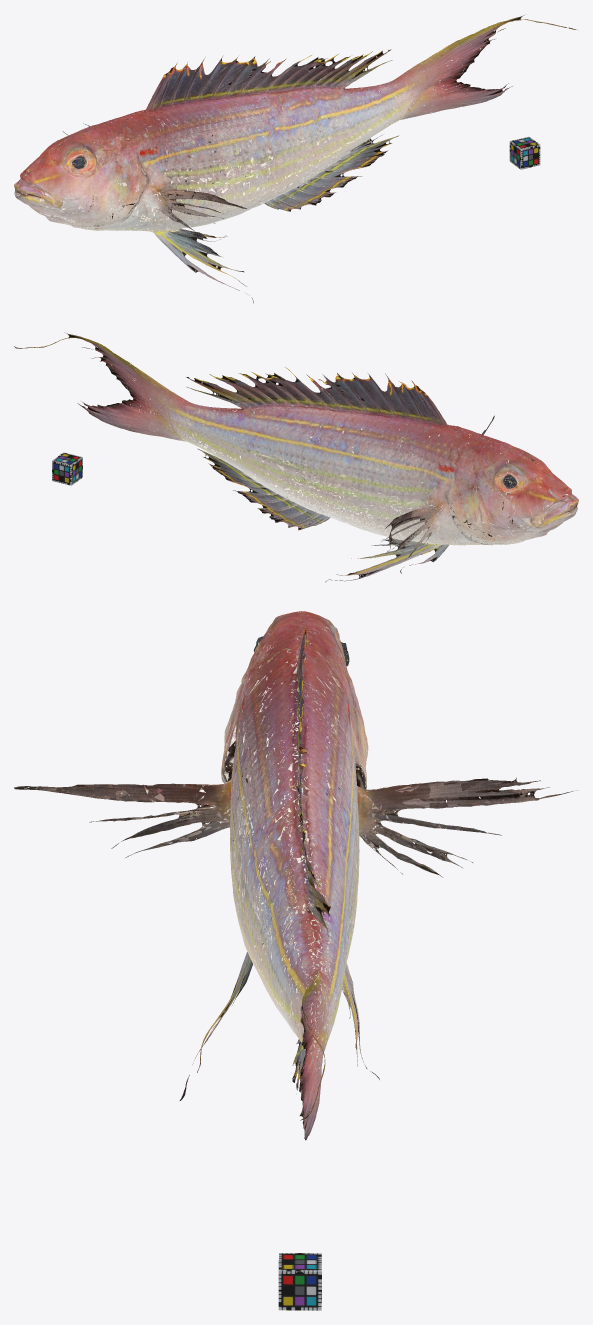
The model's file is scan_threadfin.glb.
3 views of the same model, one above another, from view 1: azimuth 30°, elevation 25°; view 2: azimuth 150°, elevation 25°; view 3: azimuth 270°, elevation 25° (orthographic). The views are drawn at different scales.
Parts seen in each view (by area): view 1: Object_13, Object_6, Object_4; view 2: Object_6, Object_13, Object_4; view 3: Object_6, Object_13, Object_4.
Part boxes in pixels (<box>): Object_13: <box>14,15,578,303</box>; Object_6: <box>14,17,552,302</box>; Object_4: <box>509,136,540,169</box>; Object_6: <box>19,333,577,581</box>; Object_13: <box>14,332,578,581</box>; Object_4: <box>52,452,82,485</box>; Object_6: <box>14,611,567,1138</box>; Object_13: <box>24,611,578,1140</box>; Object_4: <box>278,1253,321,1310</box>.
Bounding box in the file's own units: 17.17 × 6.65 × 7.78.
3 materials, 3 textured.
